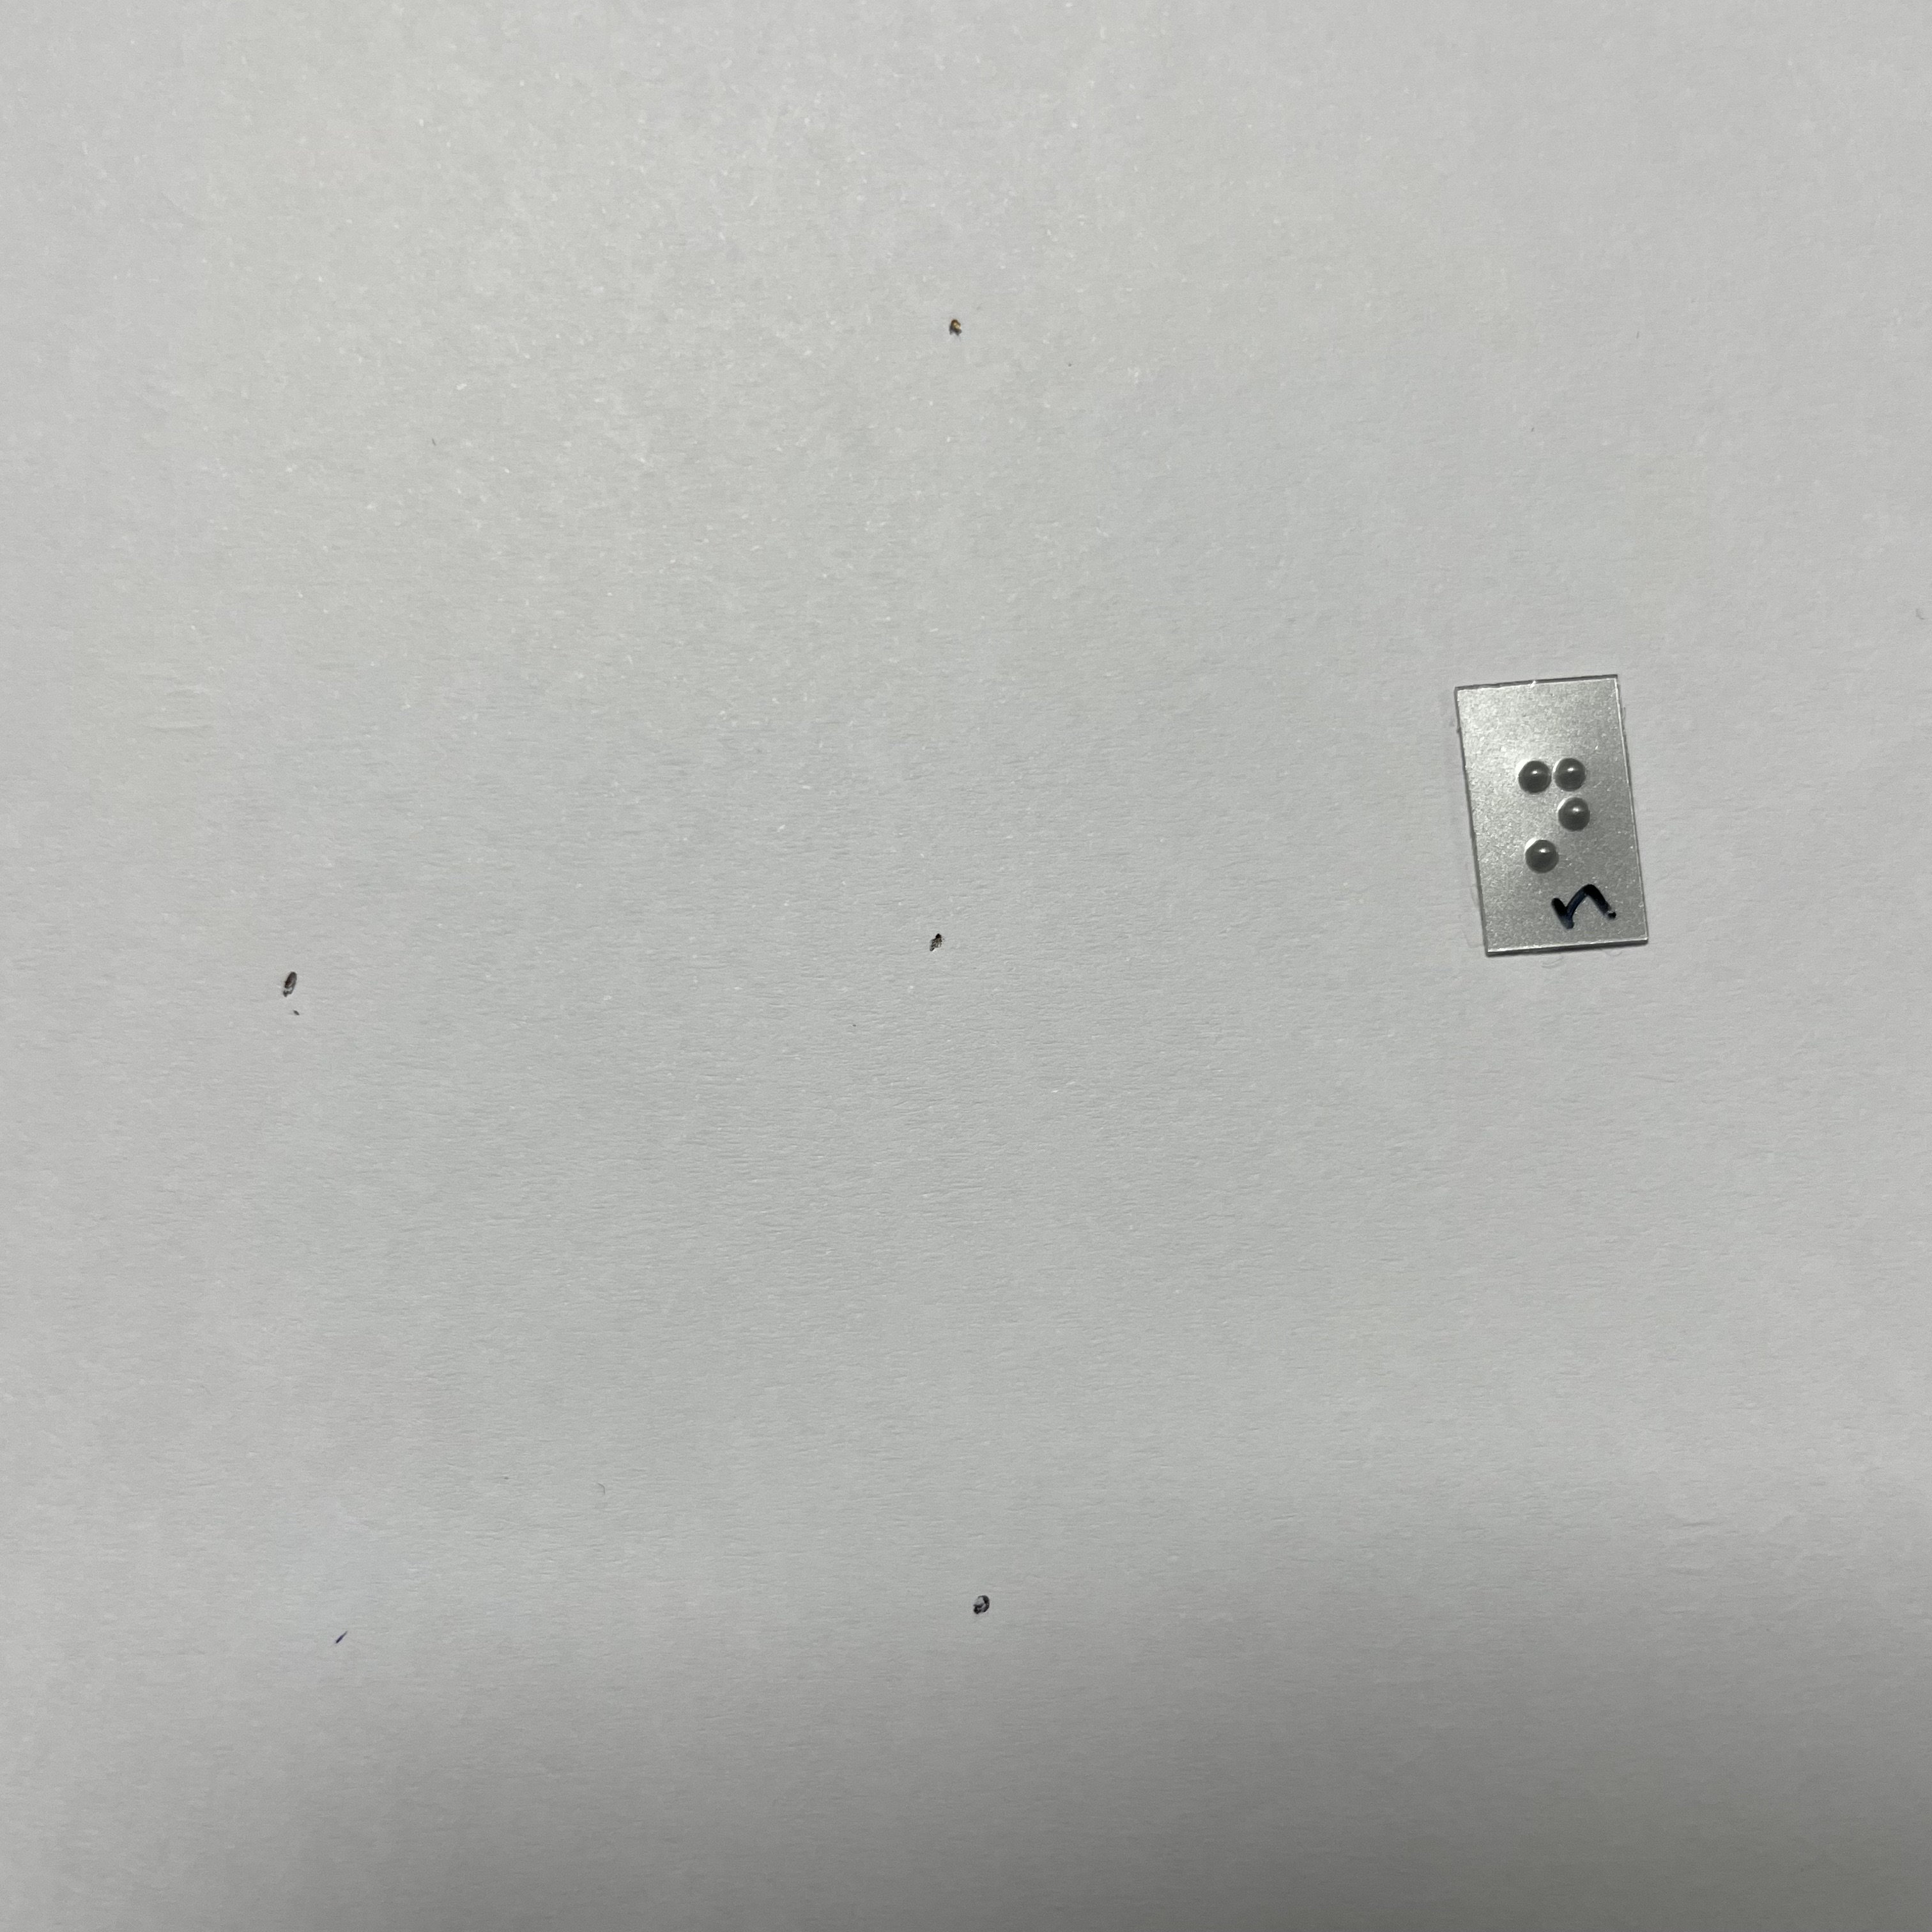n: (1508, 750, 1609, 887)
